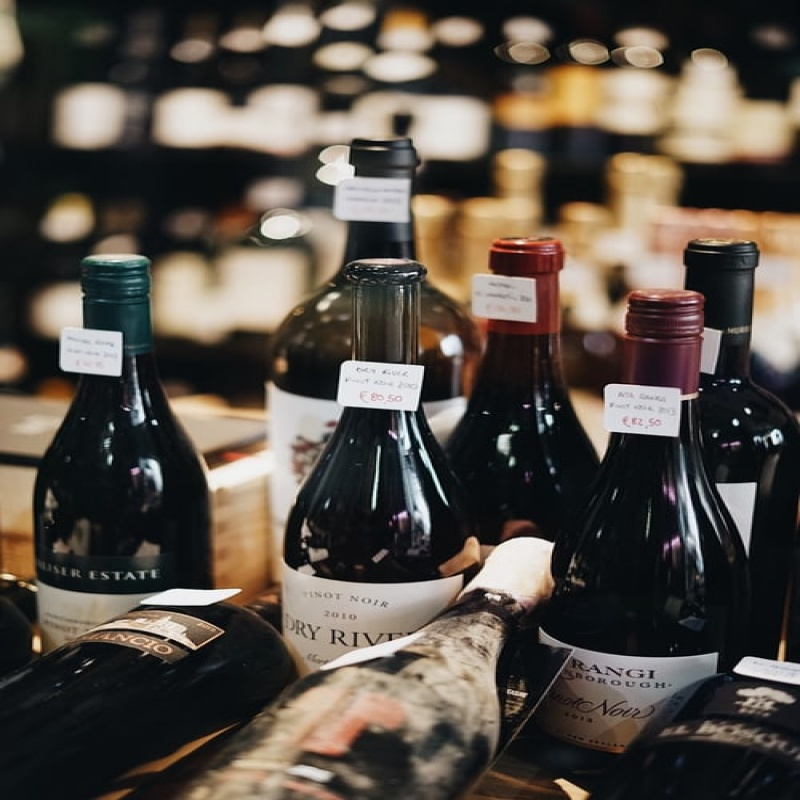wine: (531, 300, 719, 727), (284, 266, 475, 664), (38, 264, 214, 646)
